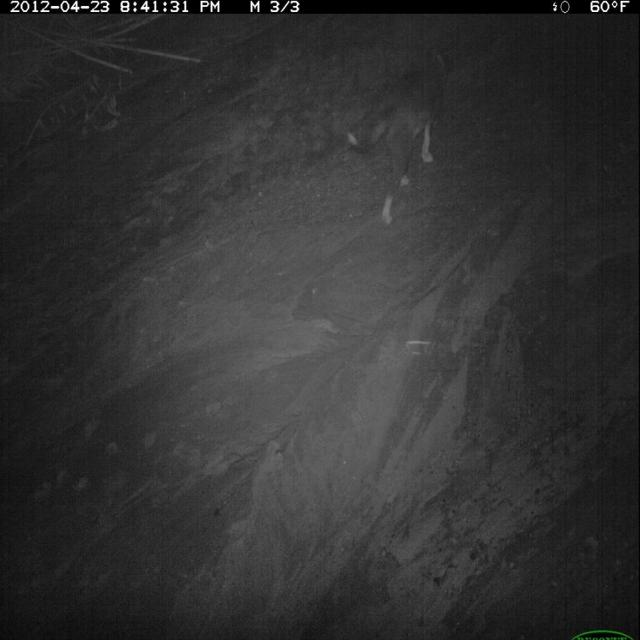dog: (341, 43, 463, 228)
